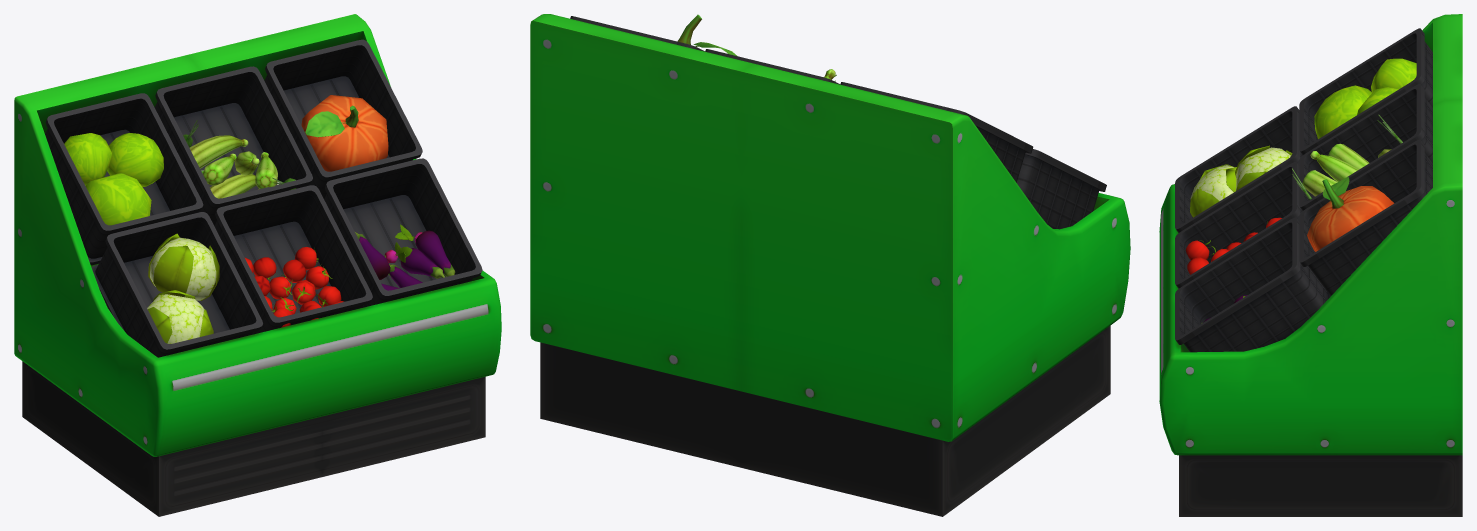
Rendered from CommRackVegetables01_1.FBX.
The picture shows the model from 3 angles, left to right: view 1: azimuth 30°, elevation 25°; view 2: azimuth 150°, elevation 25°; view 3: azimuth 270°, elevation 25°; orthographic projection. The views are drawn at different scales.
Visible parts, largest first — view 1: CommRackVegetables01_1; view 2: CommRackVegetables01_1; view 3: CommRackVegetables01_1.
Part boxes in pixels (x1,y1,x2,y2): CommRackVegetables01_1: (14, 14, 501, 516); CommRackVegetables01_1: (530, 14, 1130, 516); CommRackVegetables01_1: (1159, 14, 1462, 516).
Size of what is drawn, in the model's own units: 1.51 by 1.35 by 1.11.
